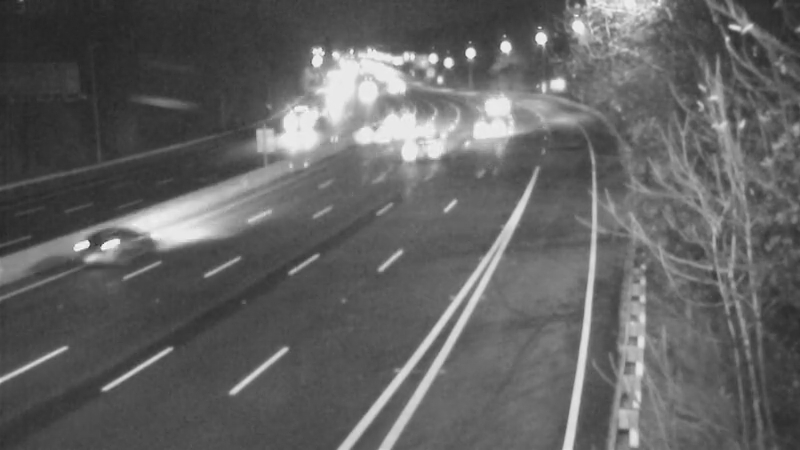vehicle: (61, 212, 141, 292), (464, 82, 514, 132), (372, 79, 422, 129), (346, 105, 396, 155), (405, 120, 455, 170), (460, 104, 510, 154), (268, 98, 318, 148)
